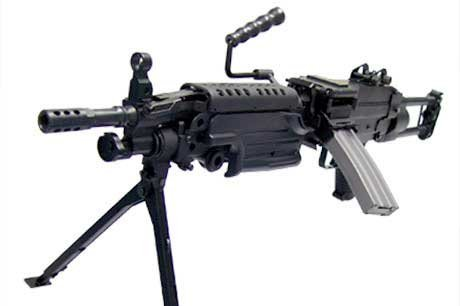rifle: (26, 16, 438, 292)
